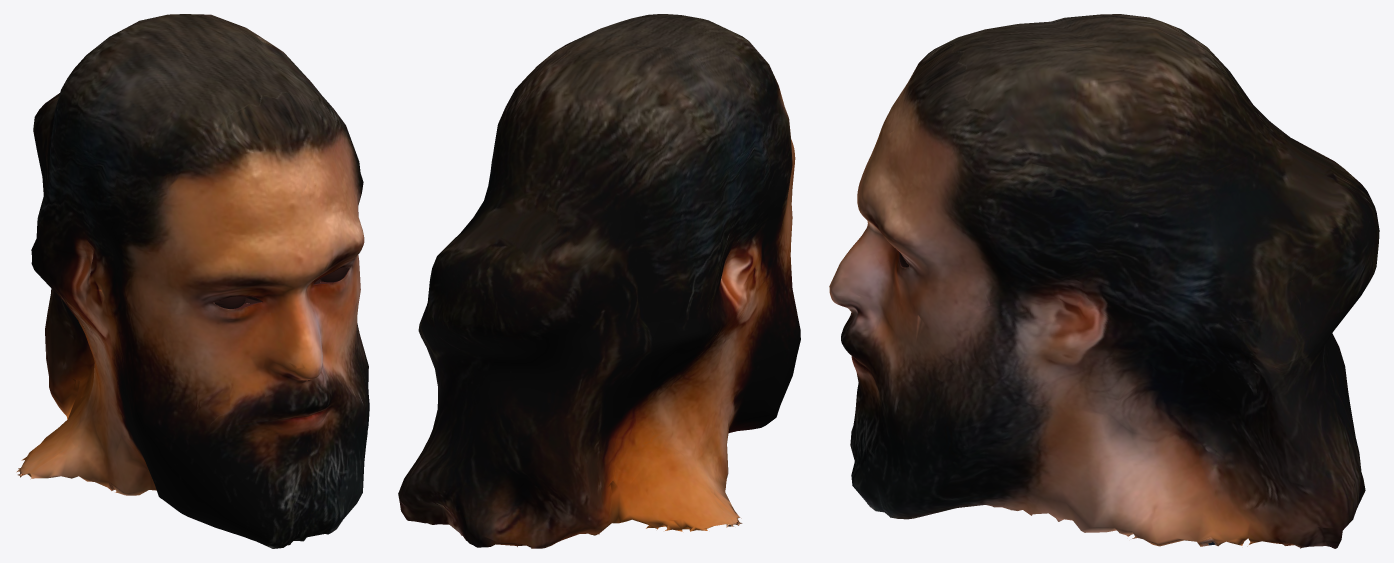
File: busto-s13.glb
The picture shows the model from 3 angles, left to right: view 1: azimuth 30°, elevation 25°; view 2: azimuth 150°, elevation 25°; view 3: azimuth 270°, elevation 25°; orthographic projection. The views are drawn at different scales.
Visible parts, largest first — view 1: Busto; view 2: Busto; view 3: Busto.
Part boxes in pixels (x1,y1,x2,y2): Busto: (16,14,369,548); Busto: (398,14,800,548); Busto: (829,14,1379,548).
Size of the model in its own units: 0.2133 by 0.3193 by 0.3445.
Materials: 6 (2 with a texture image).
